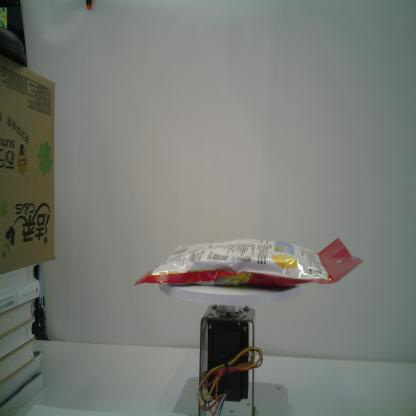Instant Drink: (132, 233, 365, 288)
